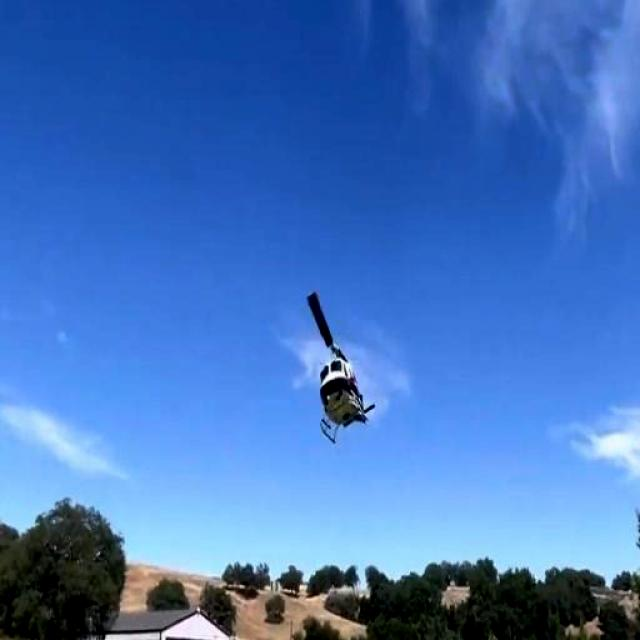drone: (292, 282, 380, 448)
